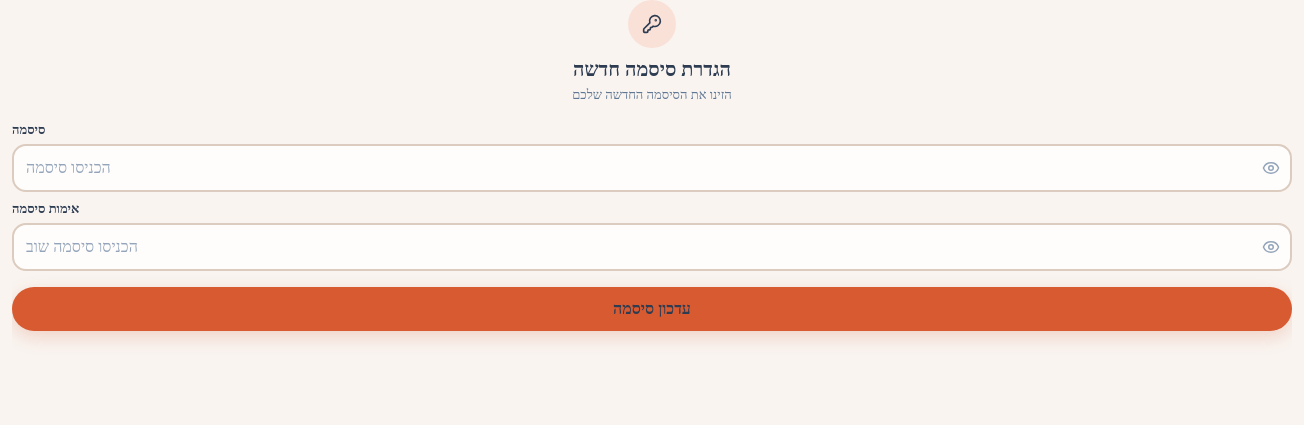
UpdatePasswordForm › displays a server-returned error (e.g. same-password rejection)
Step 1. Type "MyOldPassword123" into the password field with placeholder "הכניסו סיסמה" → (652,168), box [12,144,1292,192]
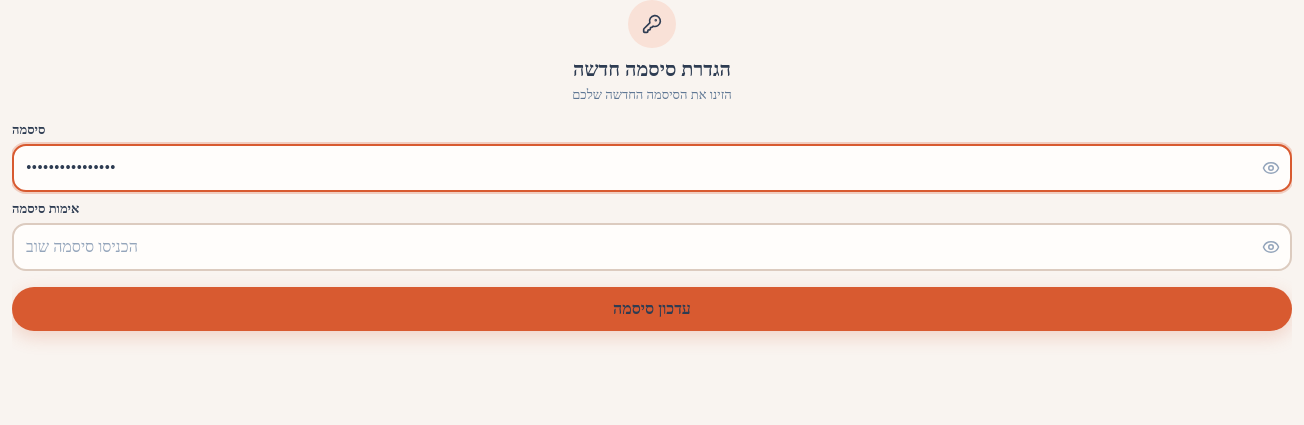
Step 2. Type "MyOldPassword123" into the password field with placeholder "הכניסו סיסמה שוב" → (652,246), box [12,222,1292,270]
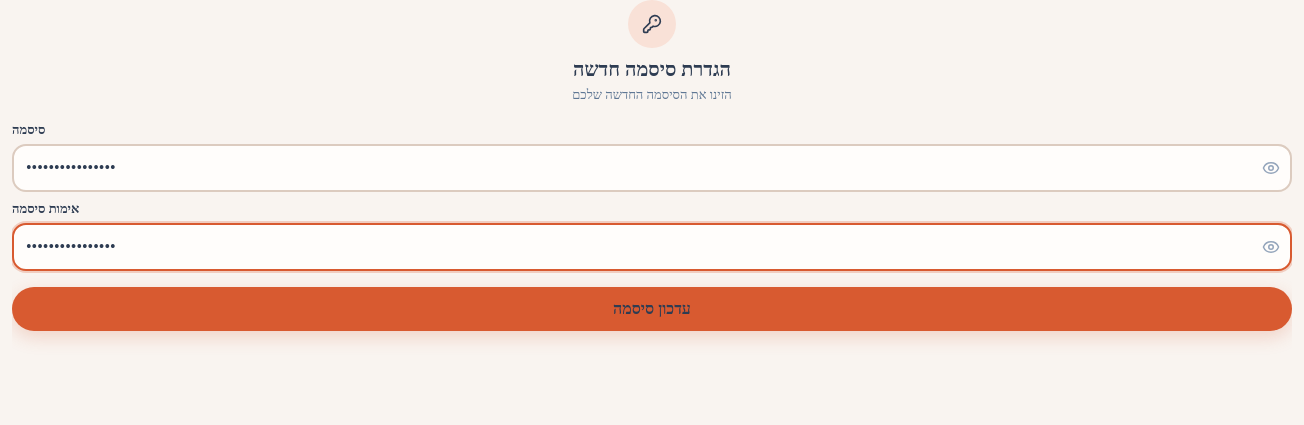
Step 3. Click the button "עדכון סיסמה" → (652,308), box [12,286,1292,330]
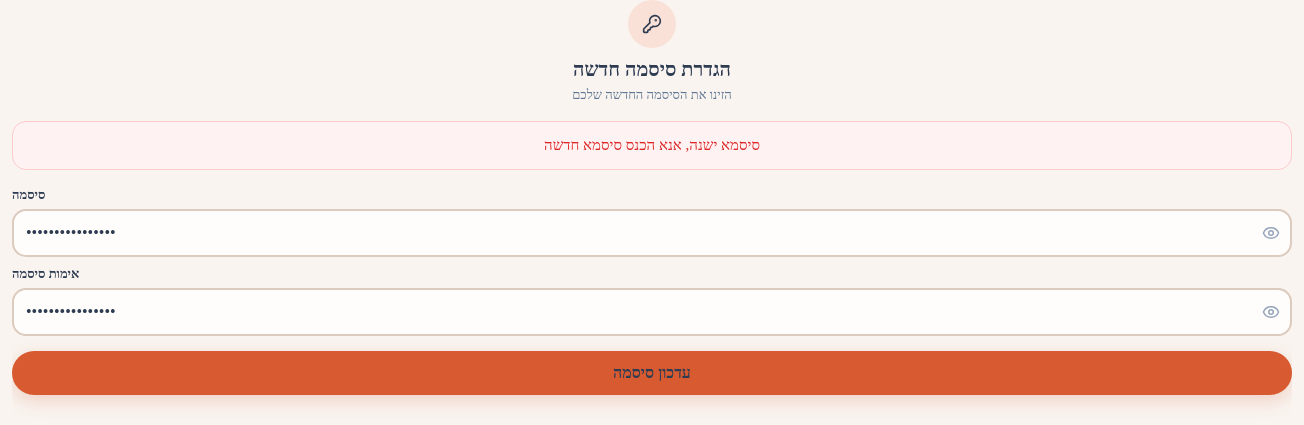
Now the text "סיסמא ישנה, אנא הכנס סיסמא חדשה" is shown, box [544,137,760,153]
